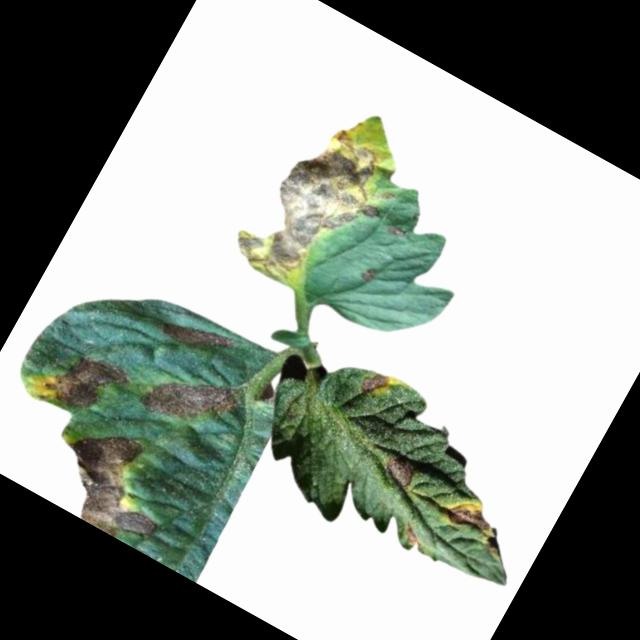Early_blight: (224, 108, 405, 309), (38, 412, 188, 552), (134, 350, 242, 449), (34, 337, 132, 431), (152, 302, 239, 372), (439, 489, 496, 542), (379, 454, 418, 493), (357, 368, 392, 404), (396, 519, 427, 551), (358, 263, 382, 288)
